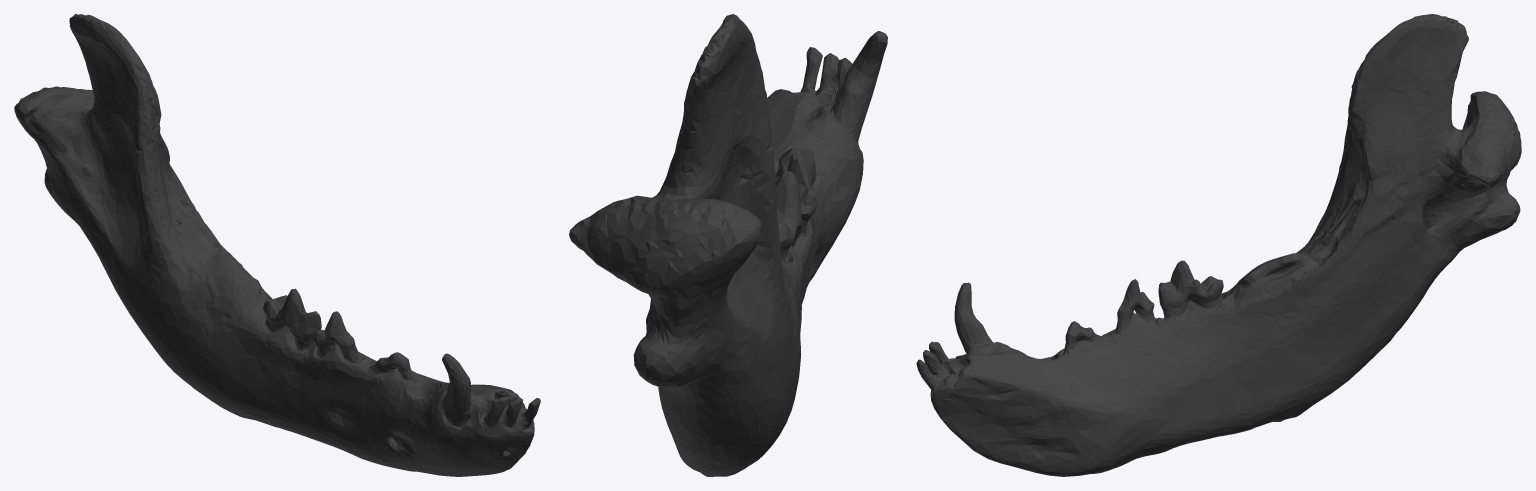
The model's file is Mandible_R.glb.
3 renders of one model, left to right at view 1: azimuth 30°, elevation 25°; view 2: azimuth 150°, elevation 25°; view 3: azimuth 270°, elevation 25°, orthographic. The views are drawn at different scales.
Parts seen in each view (by area): view 1: Mandible_R; view 2: Mandible_R; view 3: Mandible_R.
Boxes of the visible parts, bbox=[...] form: Mandible_R: bbox=[14, 14, 540, 476]; Mandible_R: bbox=[569, 14, 887, 476]; Mandible_R: bbox=[916, 14, 1521, 476].
Bounding box in the file's own units: 317 × 454 × 659.
1 material, 1 textured.
